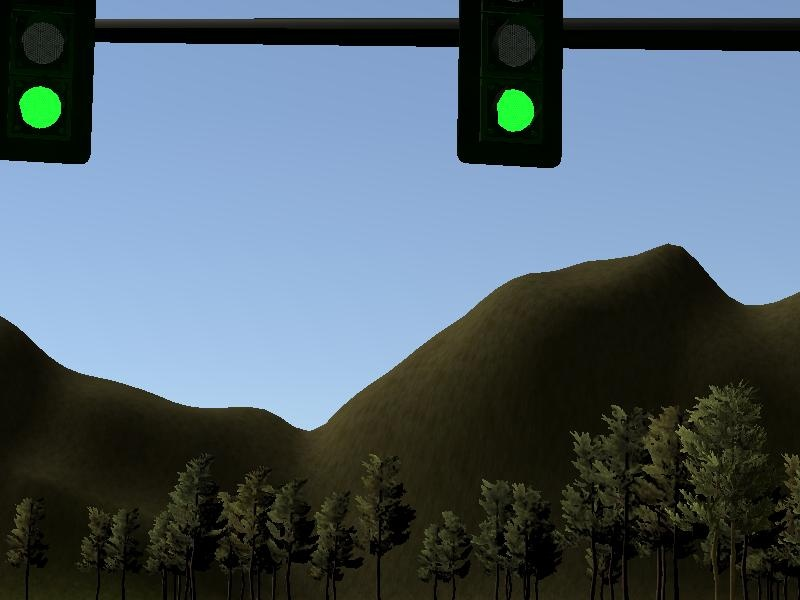traffic_light_green: (1, 1, 800, 173)
